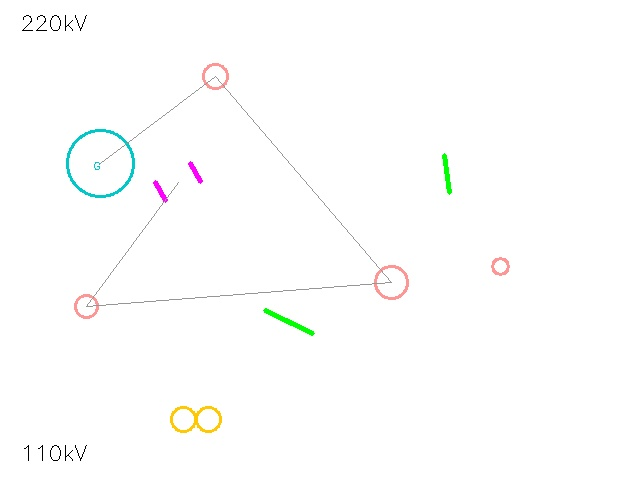busbar: (256, 289, 322, 355), (424, 151, 470, 197)
capacitor: (144, 148, 212, 216)
feeder_terminal: (359, 250, 423, 314), (63, 283, 109, 329)
fuse: (191, 52, 239, 100)
generator: (67, 130, 133, 196)
surge_arrester: (483, 249, 517, 283)
transformer_2w: (164, 387, 228, 451)
